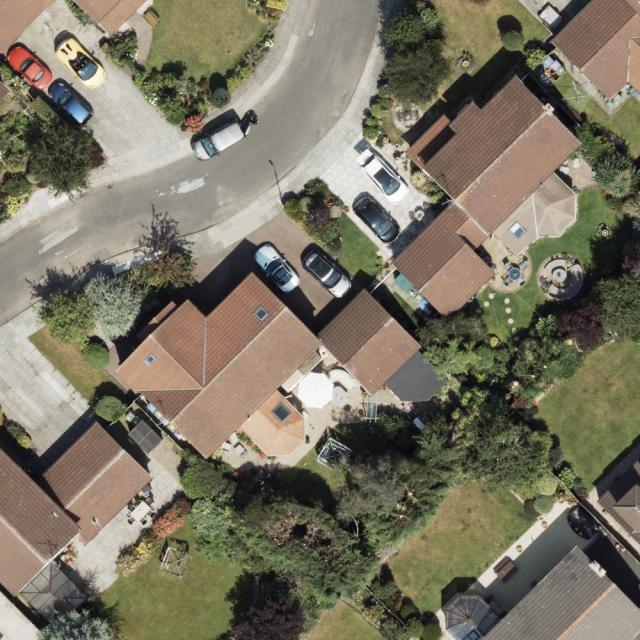roof: (112, 270, 443, 459), (390, 73, 584, 320), (0, 420, 154, 631), (445, 543, 640, 640), (553, 0, 640, 101), (0, 0, 59, 54), (72, 0, 151, 37)
skylight: (445, 594, 501, 639), (270, 400, 293, 424), (510, 220, 528, 240), (255, 307, 272, 324), (141, 352, 158, 367)
